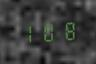eight: (57, 19, 75, 42)
one: (18, 22, 36, 44)
zero: (38, 20, 56, 43)
